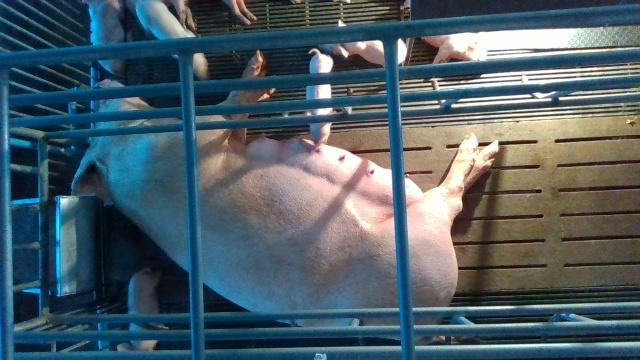piglet: (134, 0, 207, 78), (117, 268, 168, 351), (317, 19, 407, 65), (301, 48, 333, 150), (84, 0, 126, 72), (423, 33, 486, 64)
sow-sleep-lactate: (71, 79, 498, 342)
